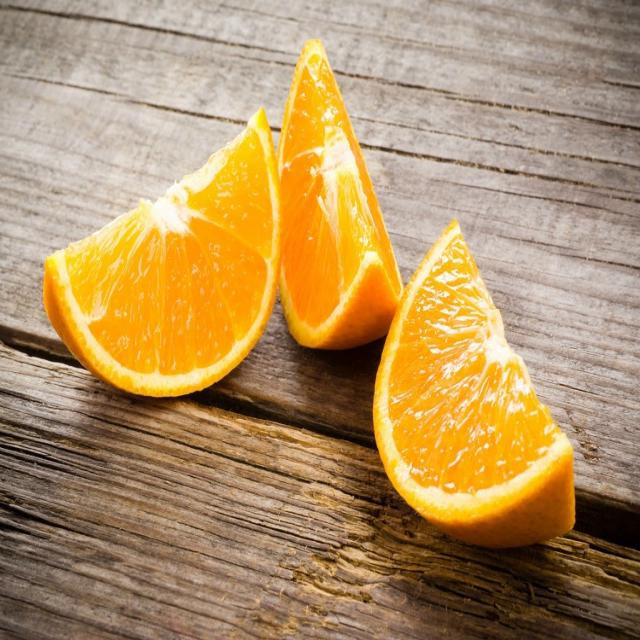Orange: (372, 212, 592, 554), (51, 113, 285, 411), (270, 34, 412, 396)
